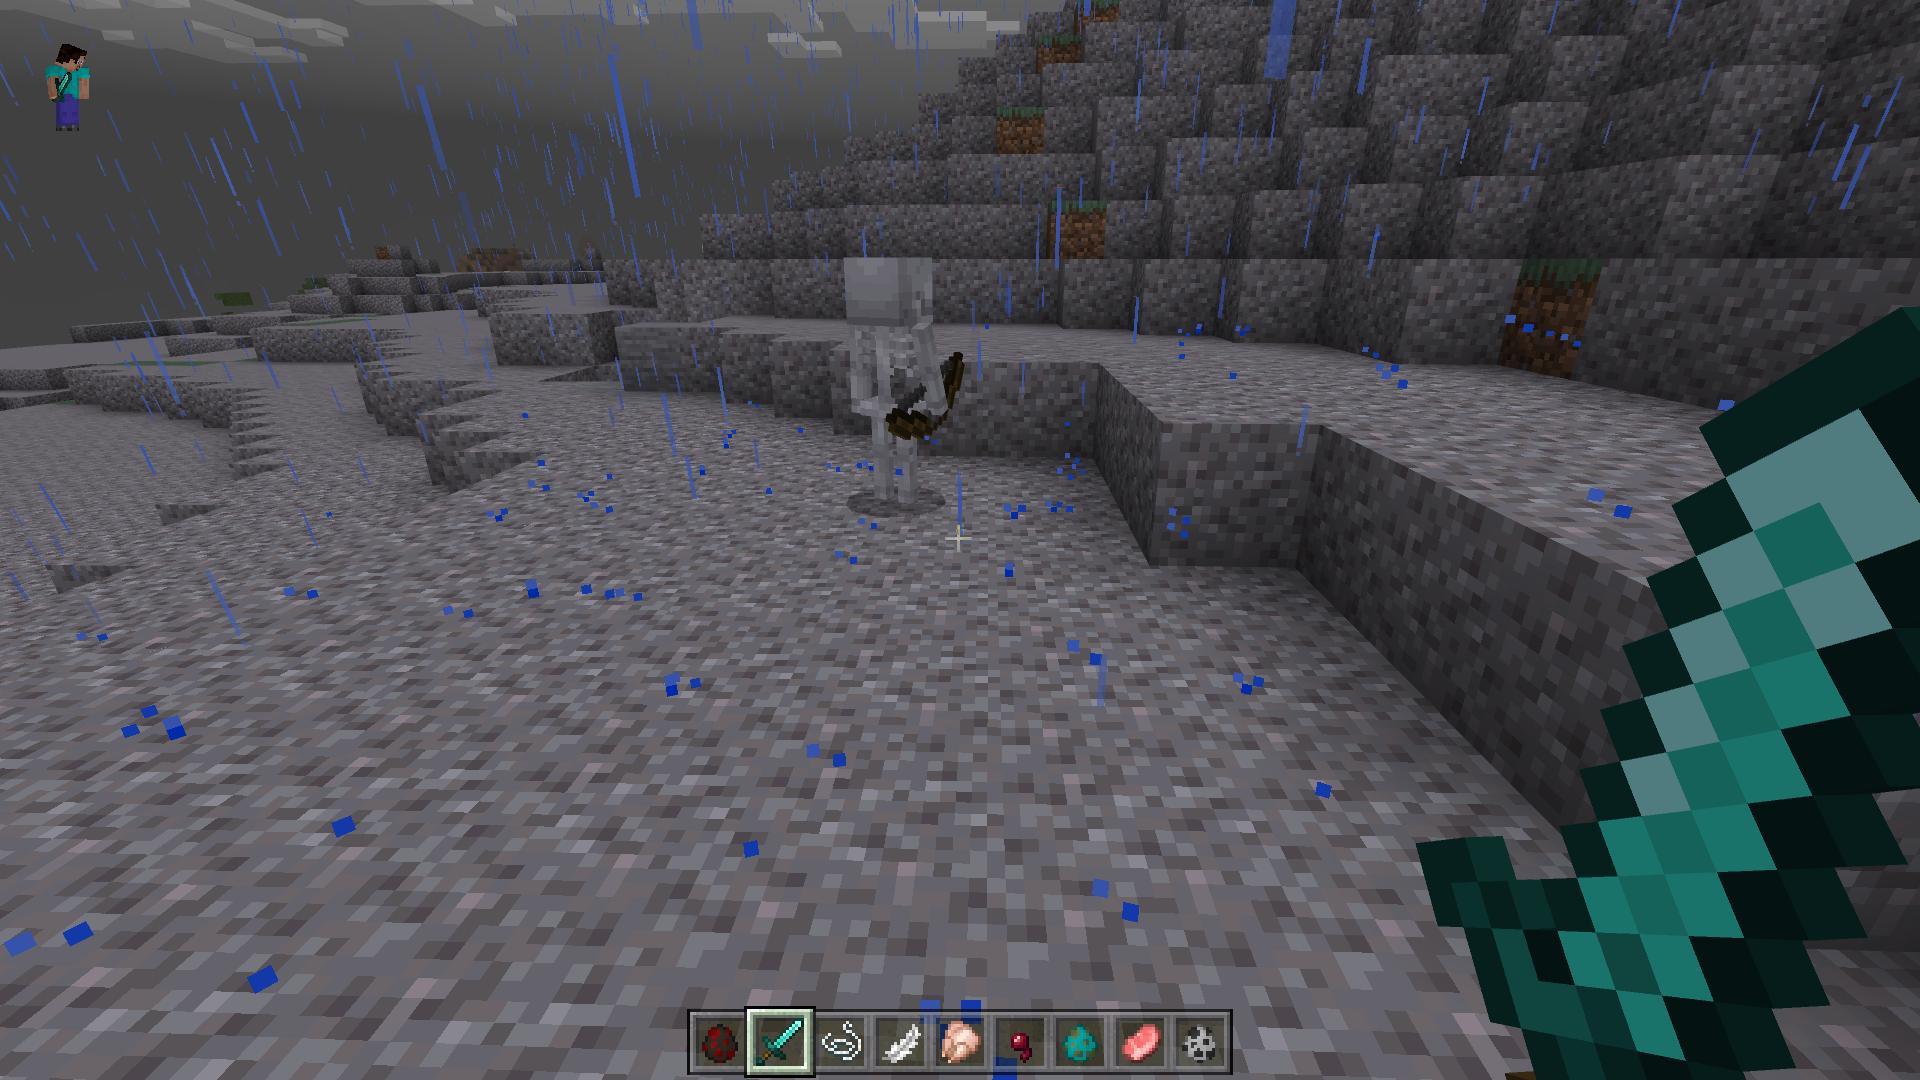skeleton: (845, 258, 972, 510)
